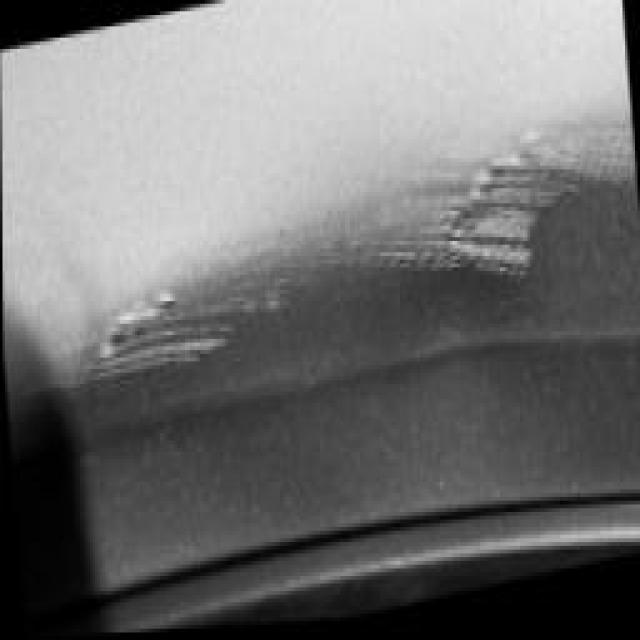Door: (8, 87, 639, 462)
